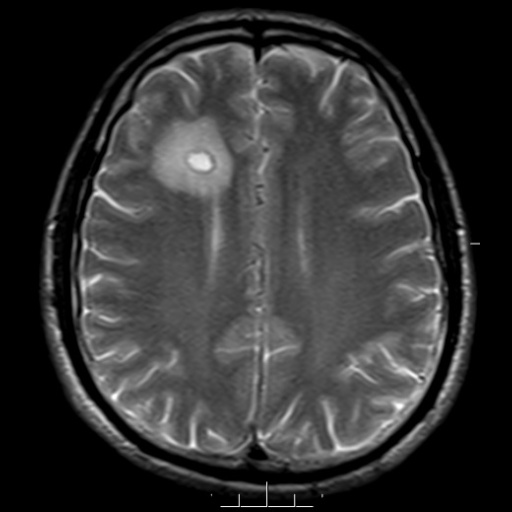tumor: (180, 144, 220, 174)
